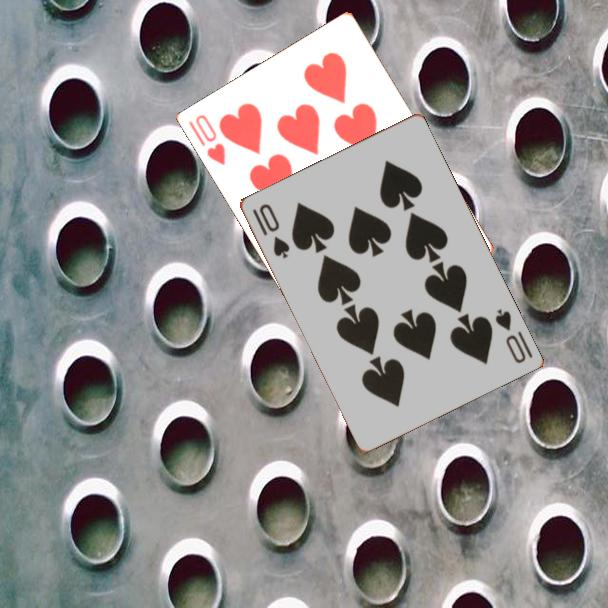h10: (185, 111, 229, 168)
s10: (248, 200, 292, 261), (491, 305, 535, 366)
